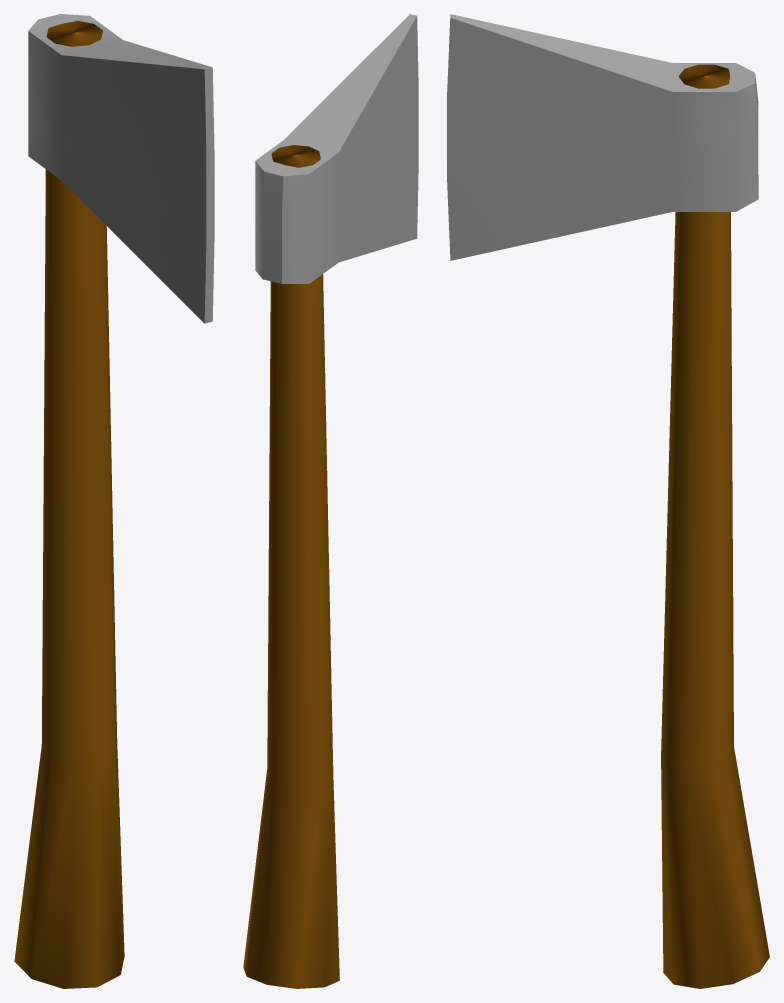
The model's file is SM_Prop_Axe2.fbx.
The picture shows the model from 3 angles, left to right: view 1: azimuth 30°, elevation 25°; view 2: azimuth 150°, elevation 25°; view 3: azimuth 270°, elevation 25°; orthographic projection. The views are drawn at different scales.
Visible parts, largest first — view 1: SM_Prop_Axe2; view 2: SM_Prop_Axe2; view 3: SM_Prop_Axe2.
Part boxes in pixels (x1,y1,x2,y2): SM_Prop_Axe2: (14, 14, 214, 988); SM_Prop_Axe2: (243, 14, 418, 988); SM_Prop_Axe2: (447, 14, 769, 988).
Size of the model in its own units: 7.02 by 72.19 by 22.08.
